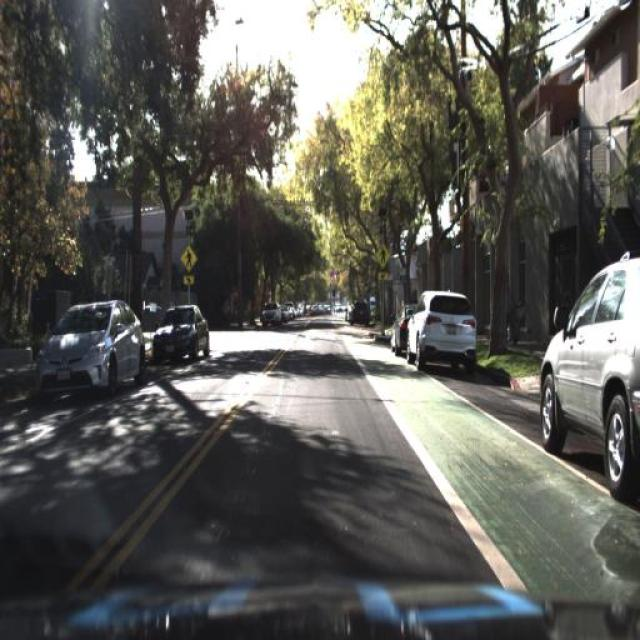car: (539, 255, 640, 507), (31, 291, 149, 403), (29, 298, 148, 392), (406, 282, 478, 369), (148, 302, 217, 363), (394, 304, 418, 352), (344, 300, 370, 330), (258, 302, 283, 332)
trafficLight: (506, 268, 525, 359)
